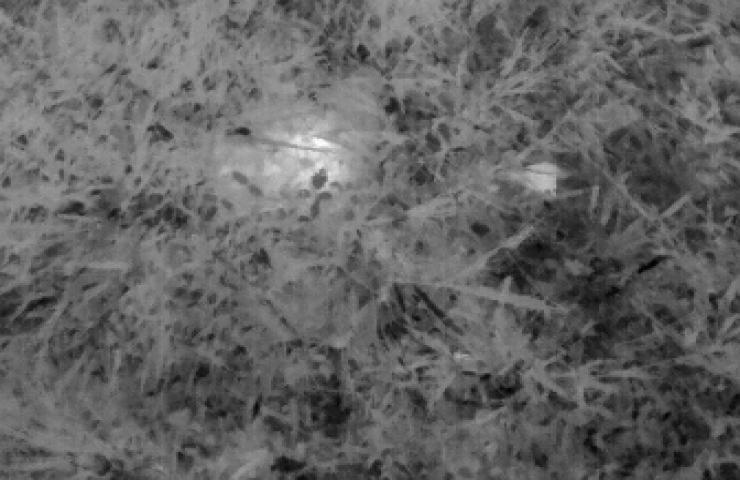landmines: (265, 129, 355, 204)
